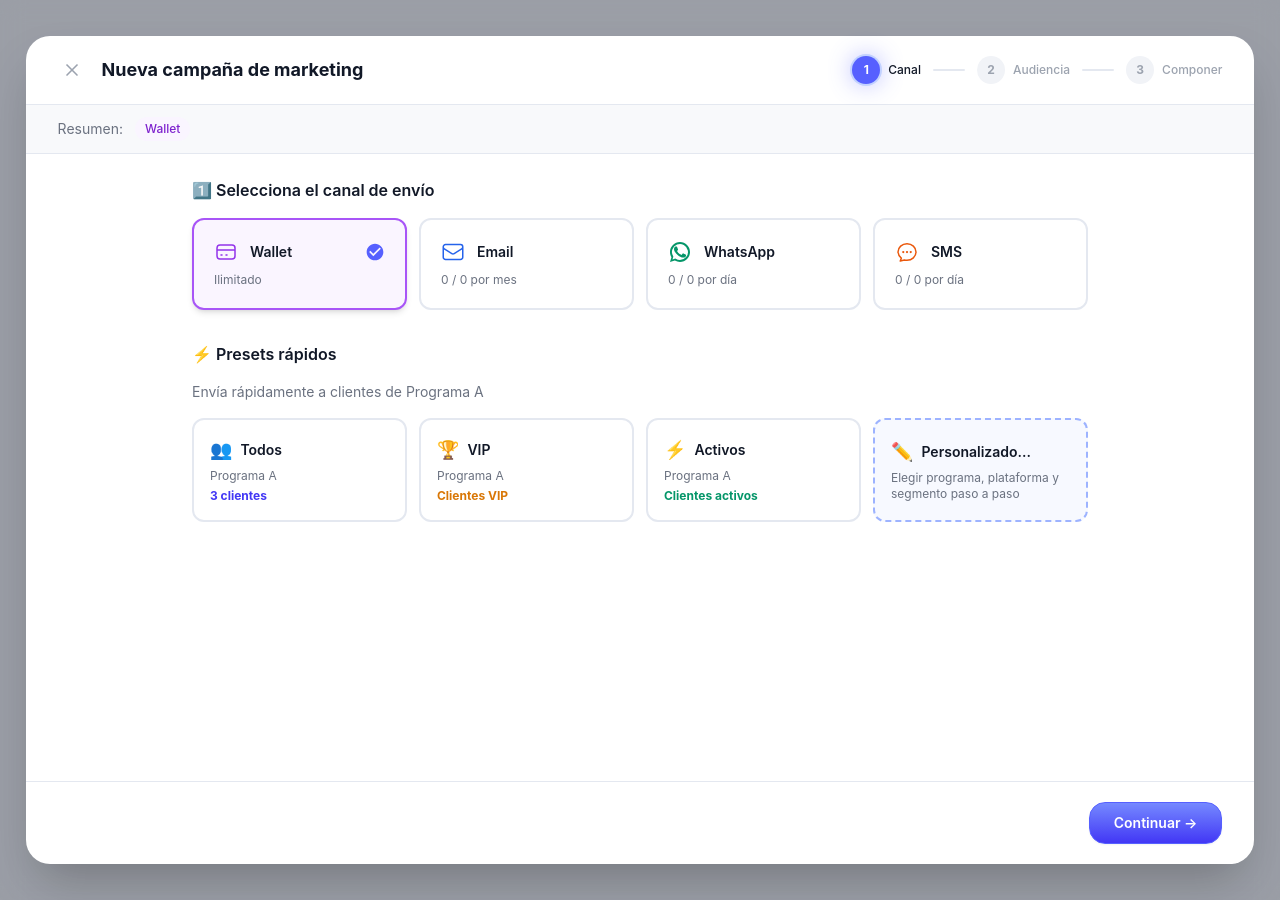
it: CampaignWizard — discard confirmation (R5) › asks to discard when there are unsaved changes and closes only on confirm
Click the button "Email 0 / 0 por mes".
click(526, 264)  # box [419, 218, 634, 310]
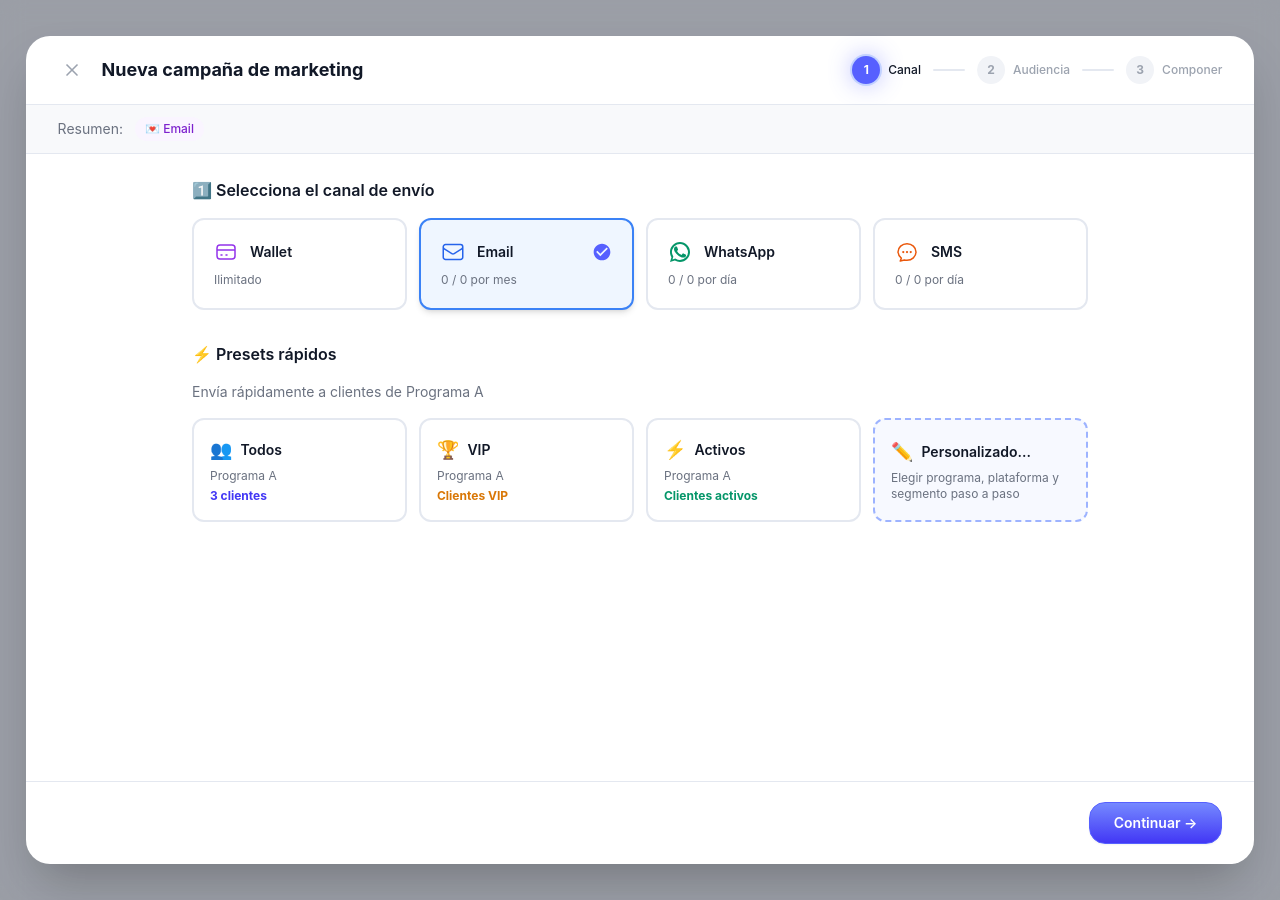
Click the element that starts with "Nueva campaña de marketing".
click(640, 450)  # box [0, 0, 1279, 899]
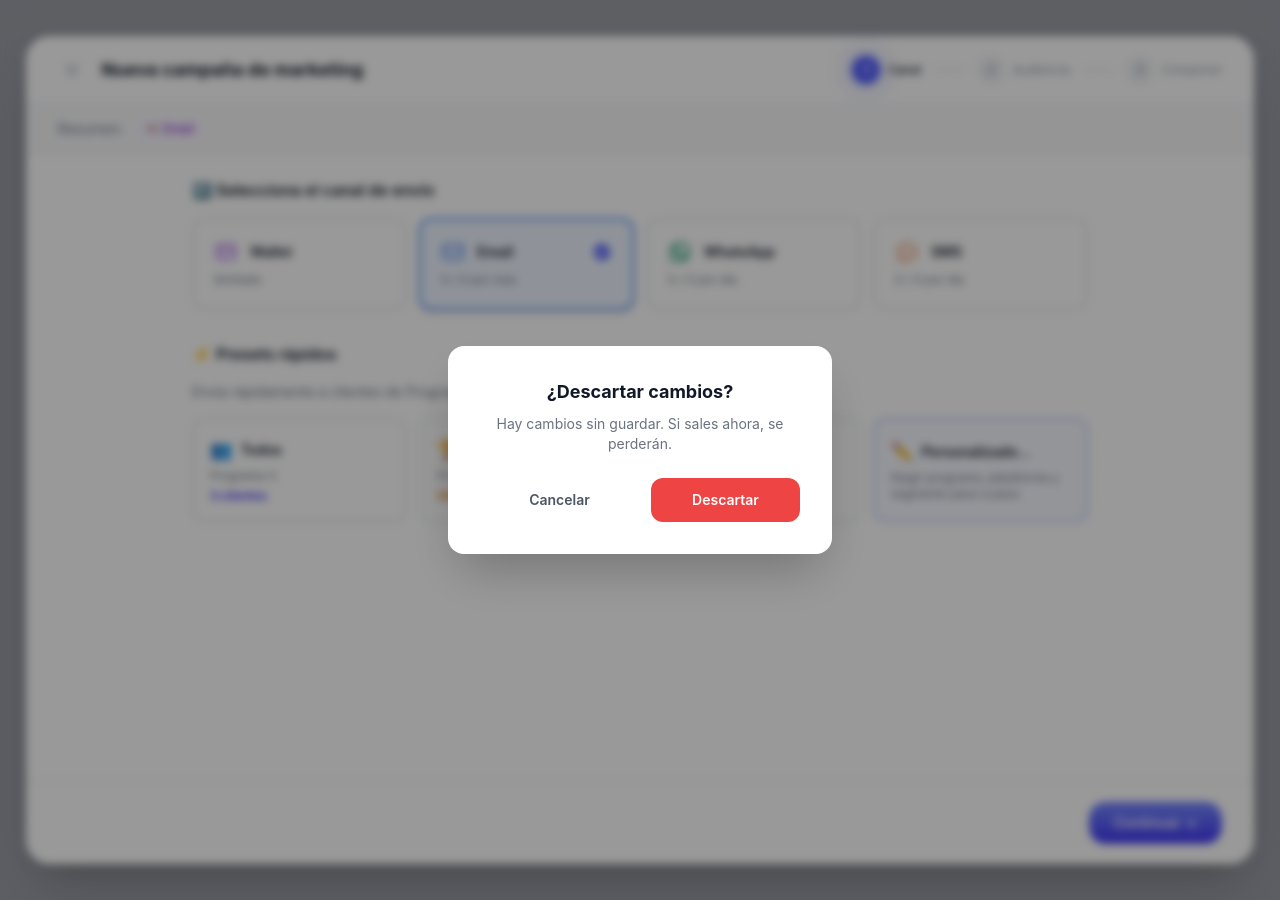
Expected: the text "¿Descartar cambios?" shows "Hay cambios sin guardar", [496, 415, 784, 452]
Click the button "Cancelar".
click(560, 500)  # box [480, 478, 639, 522]
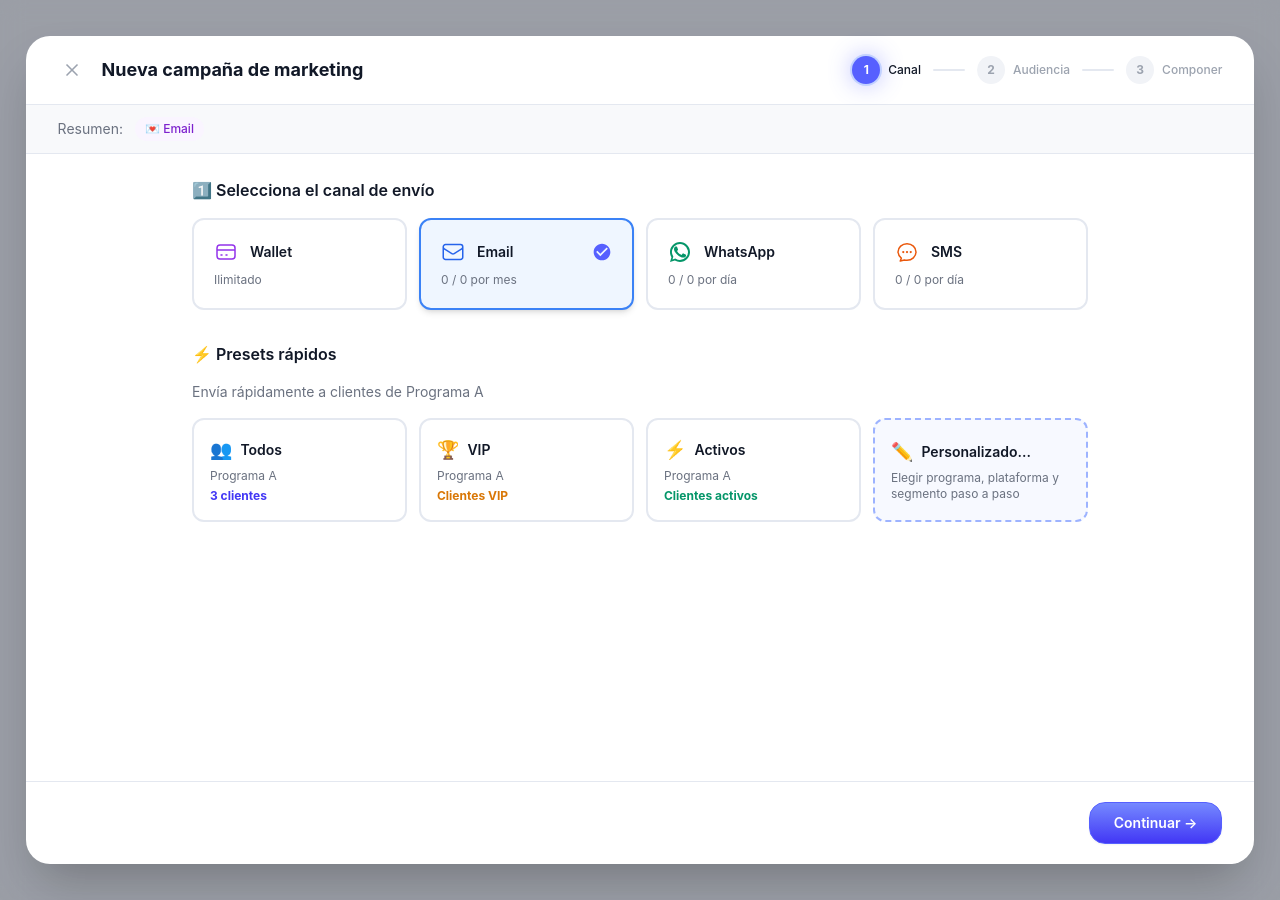
Expected: the heading "¿Descartar cambios?" is gone
Click the element that starts with "Nueva campaña de marketing".
click(640, 450)  # box [0, 0, 1279, 899]
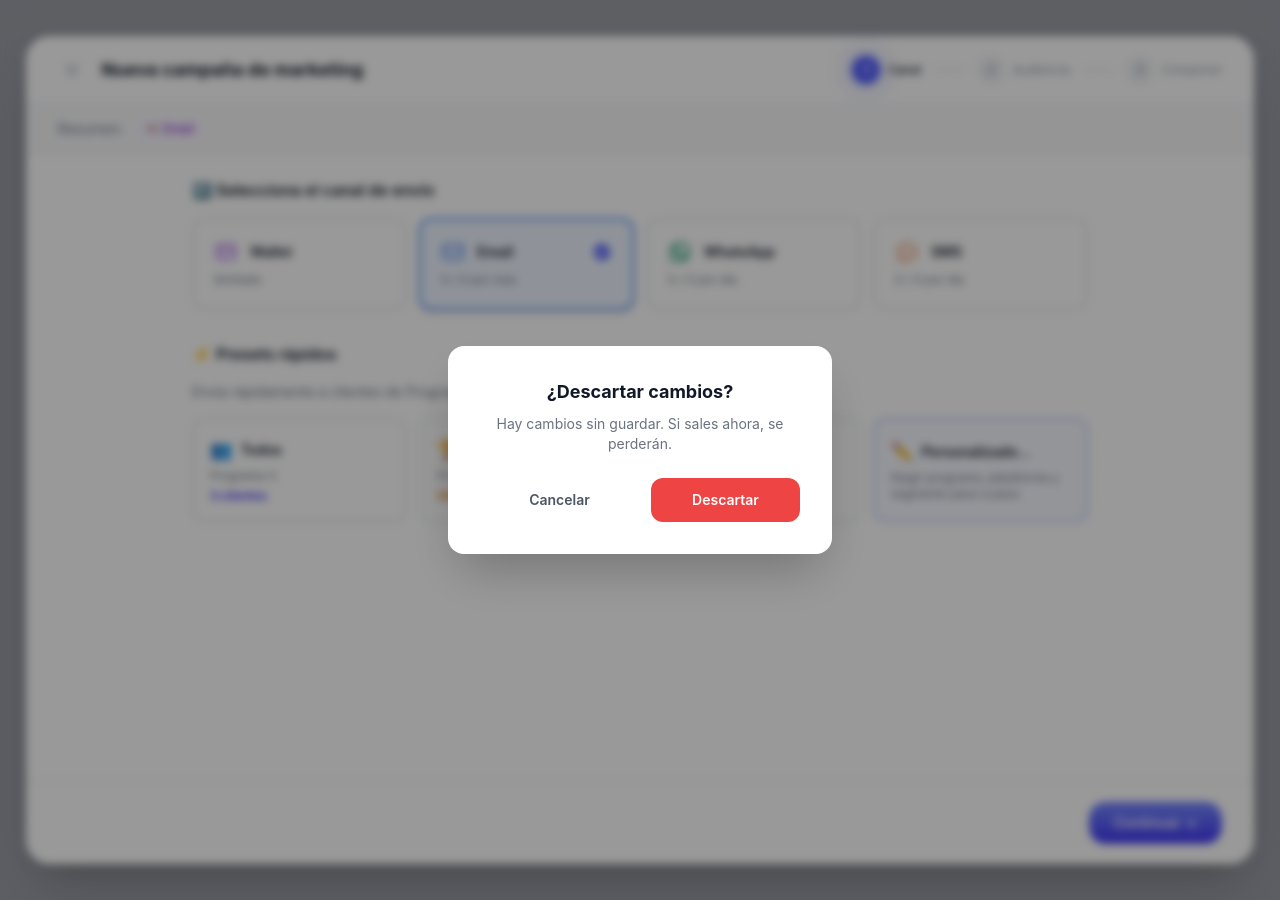
Click the button "Descartar".
click(726, 500)  # box [651, 478, 800, 522]
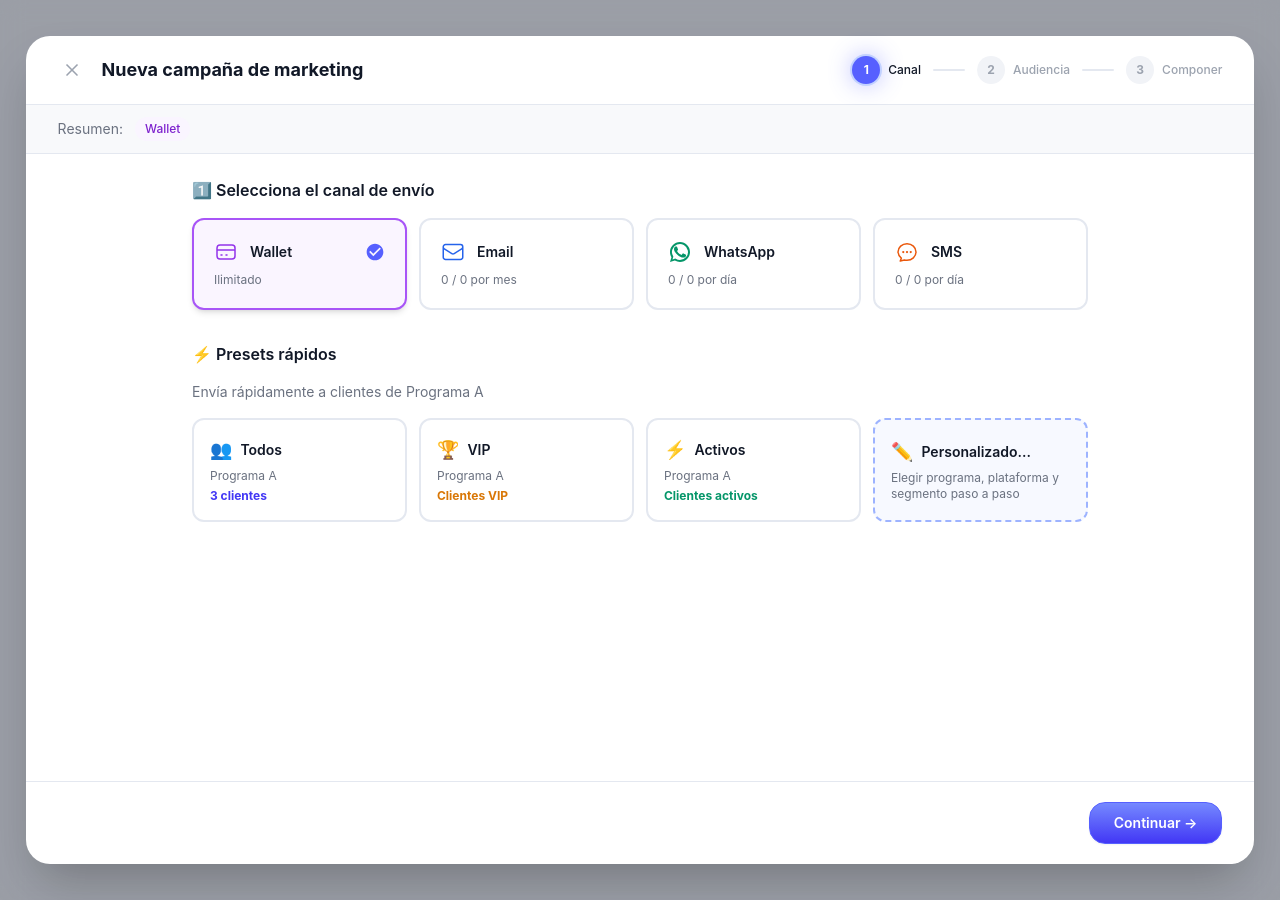
Expected: the heading "¿Descartar cambios?" is gone
